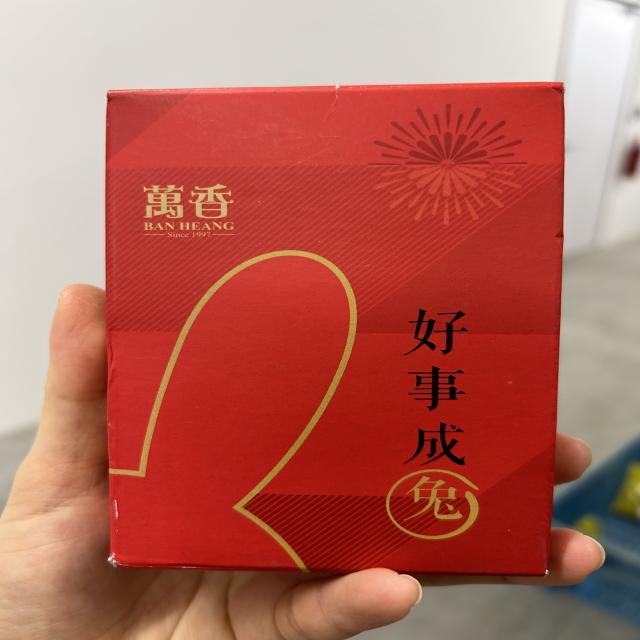object_name: (112, 91, 550, 583)
